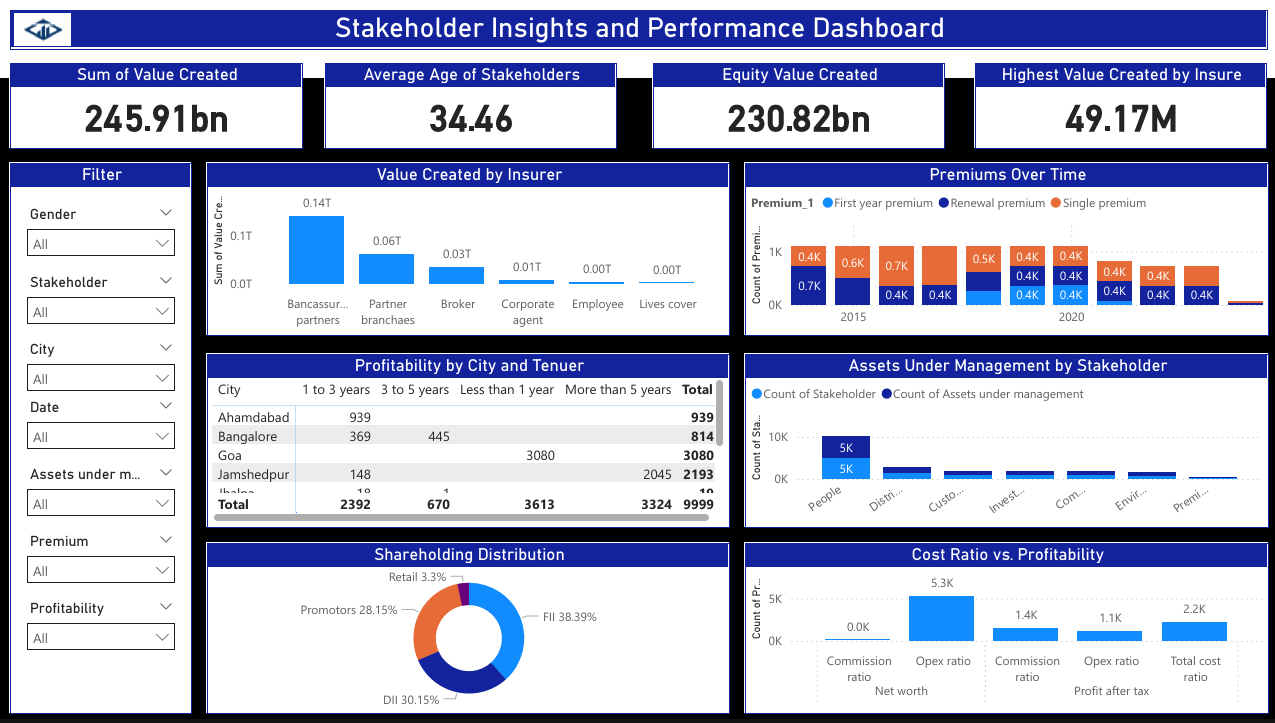

What the dashboard file says about the page in this screenshot:
{"tool":"powerbi","page":{"name":"Page 1","canvas":[1280,720],"ordinal":0},"visuals":[{"type":"columnChart","title":"Value Created by Insurer","fields":{"Y":["Sum(Finance Sheet (2).Value Created)"],"Category":["Finance Sheet (2).Insurer"]},"box":[207.5,162.5,523.8,173.8],"z":0},{"type":"columnChart","title":"Premiums Over Time","fields":{"Category":["Finance Sheet (2).Date.Variation.Date Hierarchy.Year"],"Series":["Finance Sheet (2).Premium_1"],"Y":["CountNonNull(Finance Sheet (2).Premium_1)"]},"box":[746.2,162.5,523.8,173.8],"z":1000},{"type":"pivotTable","title":"Profitability by City and Tenuer","fields":{"Rows":["Finance Sheet (2).City"],"Columns":["Finance Sheet (2).Policy tenuer "],"Values":["CountNonNull(Finance Sheet (2).Profitability)"]},"box":[207.5,353.8,523.8,173.8],"z":2000},{"type":"donutChart","title":"Shareholding Distribution","fields":{"Category":["Finance Sheet (2).Sahreholding pattern"],"Y":["CountNonNull(Finance Sheet (2).Stakeholder)"]},"box":[207.5,542.5,523.8,171.2],"z":3000},{"type":"columnChart","title":"Cost Ratio vs. Profitability","fields":{"Y":["CountNonNull(Finance Sheet (2).Profitability)"],"Category":["Finance Sheet (2).Profitability","Finance Sheet (2).Cost ratio"]},"box":[746.2,542.5,523.8,171.2],"z":4000},{"type":"columnChart","title":"Assets Under Management by Stakeholder","fields":{"Y":["CountNonNull(Finance Sheet (2).Stakeholder)","CountNonNull(Finance Sheet (2).Assets under management)"],"Category":["Finance Sheet (2).Stakeholder"]},"box":[746.2,353.8,523.8,173.8],"z":5000},{"type":"textbox","box":[0,0,1280,78.8],"z":6000},{"type":"textbox","title":"Filter","box":[11.2,162.5,181.2,551.2],"z":7000},{"type":"slicer","fields":{"Values":["Finance Sheet (2).Gender"]},"box":[17.5,201.2,168.8,67.5],"z":8000},{"type":"slicer","fields":{"Values":["Finance Sheet (2).Stakeholder"]},"box":[17.5,268.8,168.8,67.5],"z":9000},{"type":"slicer","fields":{"Values":["Finance Sheet (2).City"]},"box":[17.5,336.2,168.8,67.5],"z":10000},{"type":"slicer","fields":{"Values":["Finance Sheet (2).Date"]},"box":[17.5,393.8,168.8,67.5],"z":11000},{"type":"slicer","fields":{"Values":["Finance Sheet (2).Assets under management"]},"box":[17.5,461.2,168.8,67.5],"z":12000},{"type":"slicer","fields":{"Values":["Finance Sheet (2).Premium"]},"box":[17.5,527.5,168.8,67.5],"z":13000},{"type":"slicer","fields":{"Values":["Finance Sheet (2).Profitability"]},"box":[17.5,595,168.8,67.5],"z":14000},{"type":"card","title":"Sum of Value Created","fields":{"Values":["Sum(Finance Sheet (2).Value Created)"]},"box":[11.2,62.5,292.5,86.2],"z":15000},{"type":"card","title":"Average Age of Stakeholders","fields":{"Values":["Avg(Finance Sheet (2).Age )"]},"box":[326.2,62.5,292,86.2],"z":16000},{"type":"card","title":"Equity Value Created","fields":{"Values":["Sum(Finance Sheet (2).Value Created)"]},"box":[653.8,62.5,292,86.2],"z":17000},{"type":"card","title":"Highest Value Created by  Insure","fields":{"Values":["Max(Finance Sheet (2).Value Created)"]},"box":[976.2,62.5,292,86.2],"z":18000},{"type":"textbox","title":"Stakeholder Insights and Performance Dashboard                                                                                                       ","box":[11.2,10,1257.5,40],"z":19000},{"type":"image","box":[11.2,8.8,66.2,42.5],"z":20000}]}

Visuals, with their boxes in screenshot pixels (x1, y1, x2, y2), scaled from the page's 1280x720 canvas onto the 1275x723 screenshot:
"Value Created by Insurer" columnChart: bbox(207, 163, 728, 338)
"Premiums Over Time" columnChart: bbox(743, 163, 1265, 338)
"Profitability by City and Tenuer" pivotTable: bbox(207, 355, 728, 530)
"Shareholding Distribution" donutChart: bbox(207, 545, 728, 717)
"Cost Ratio vs. Profitability" columnChart: bbox(743, 545, 1265, 717)
"Assets Under Management by Stakeholder" columnChart: bbox(743, 355, 1265, 530)
textbox: bbox(0, 0, 1274, 79)
"Filter" textbox: bbox(11, 163, 192, 717)
slicer - Finance Sheet (2).Gender: bbox(17, 202, 186, 270)
slicer - Finance Sheet (2).Stakeholder: bbox(17, 270, 186, 338)
slicer - Finance Sheet (2).City: bbox(17, 338, 186, 405)
slicer - Finance Sheet (2).Date: bbox(17, 395, 186, 463)
slicer - Finance Sheet (2).Assets under management: bbox(17, 463, 186, 531)
slicer - Finance Sheet (2).Premium: bbox(17, 530, 186, 597)
slicer - Finance Sheet (2).Profitability: bbox(17, 597, 186, 665)
"Sum of Value Created" card: bbox(11, 63, 303, 149)
"Average Age of Stakeholders" card: bbox(325, 63, 616, 149)
"Equity Value Created" card: bbox(651, 63, 942, 149)
"Highest Value Created by  Insure" card: bbox(972, 63, 1263, 149)
"Stakeholder Insights and Performance Dashboard                                                                                                       " textbox: bbox(11, 10, 1264, 50)
image: bbox(11, 9, 77, 52)
